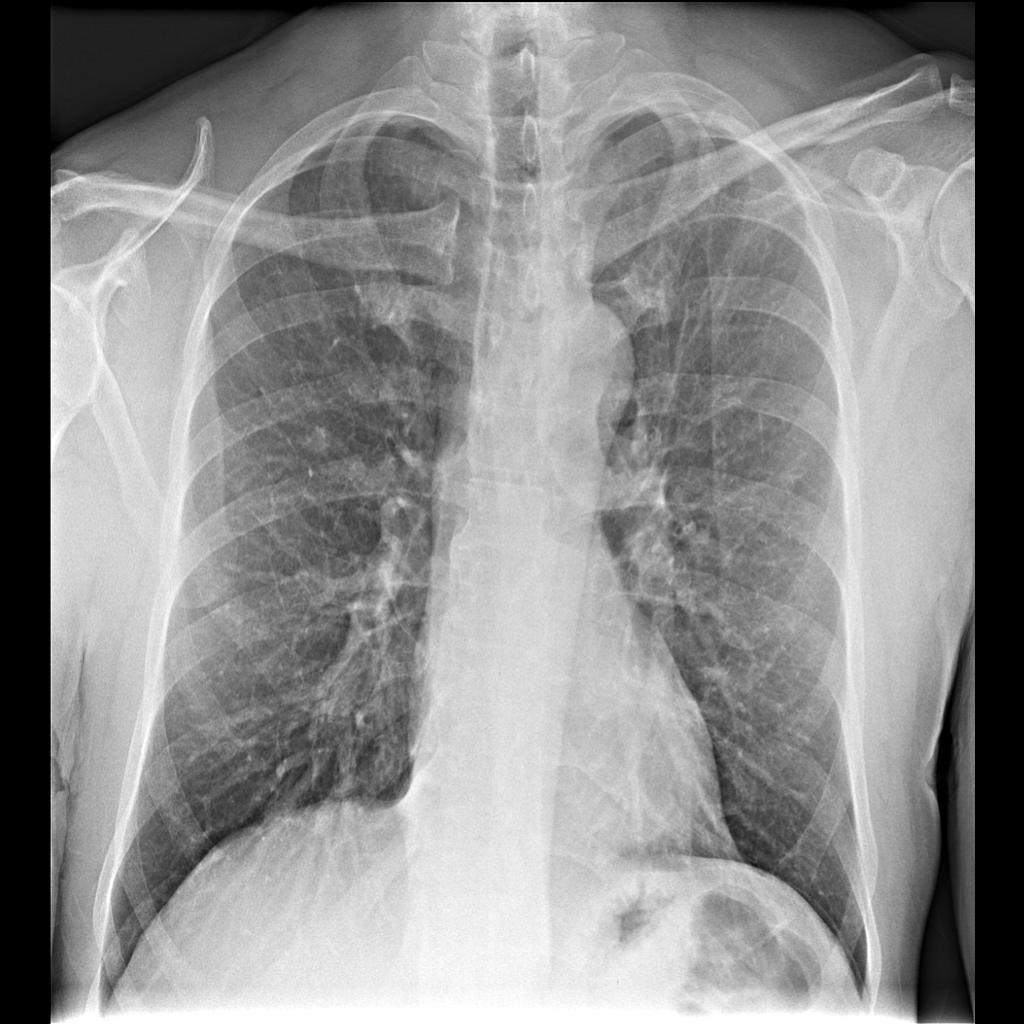Nodule: (291, 414, 341, 465)
